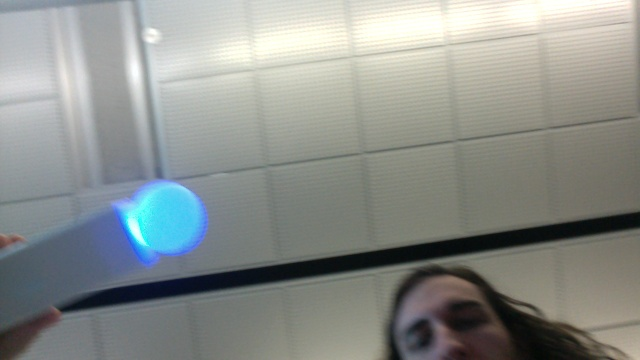wand: (134, 184, 207, 251)
